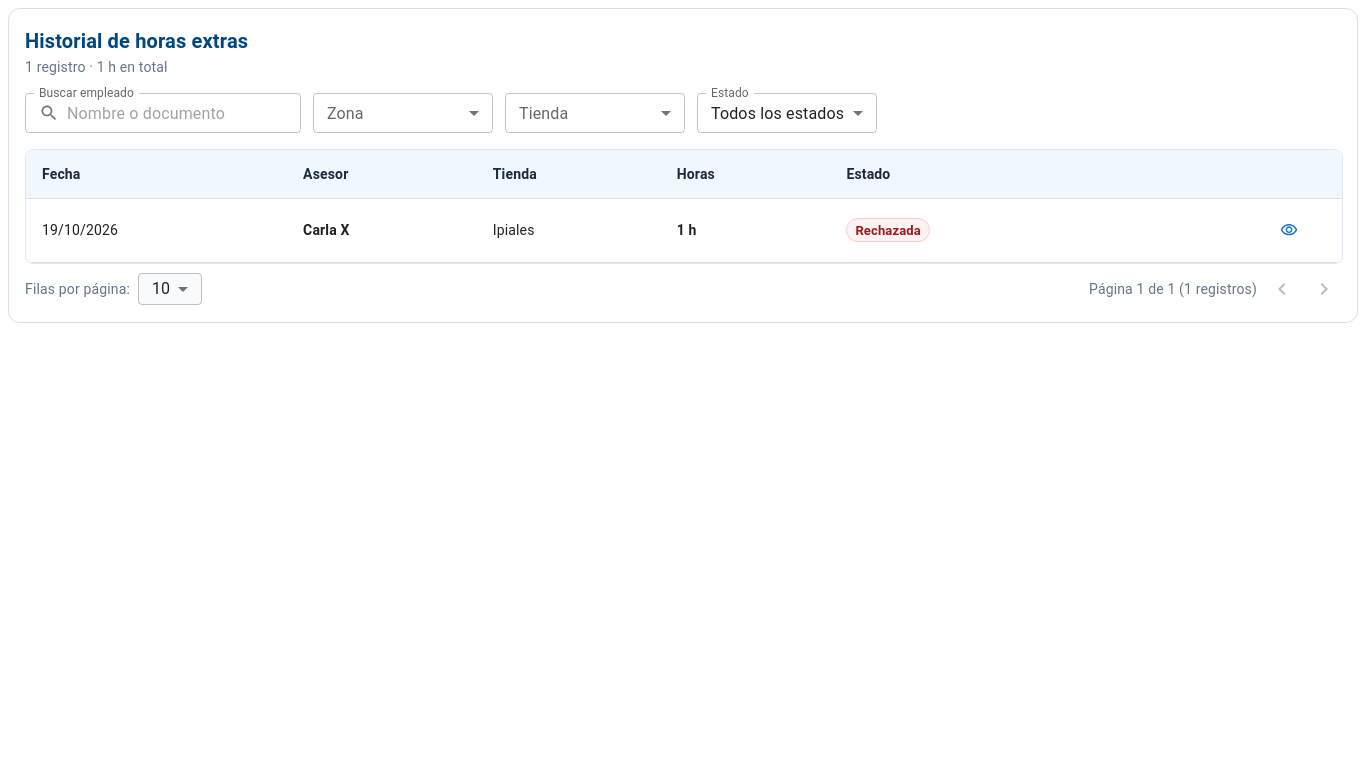
it: HistorialPage › la tabla no muestra observación ni creador; el detalle sí, con quién revisó y el motivo
Expected: the text "Carla X" is shown, 303,222 -> 350,238
Expected: the column heading "Observación" is not shown
Click the button named "Ver detalle de Carla X".
click(1294, 230)  # box 1262,215 -> 1326,246
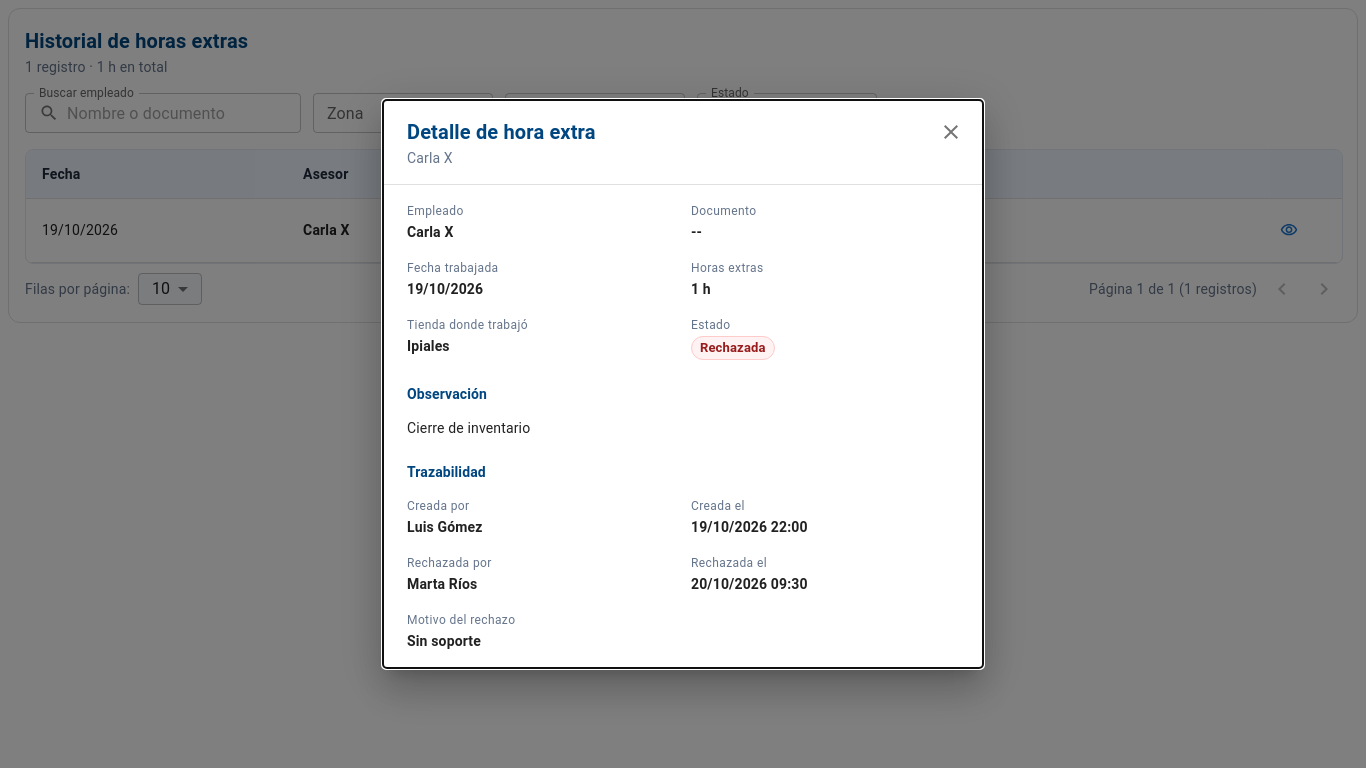
Expected: the text "Cierre de inventario" is shown, 407,420 -> 530,436
Expected: the text "Luis Gómez" is shown, 407,519 -> 482,535
Expected: the text "19/10/2026 22:00" is shown, 691,519 -> 808,535
Click the button named "Cerrar".
click(951, 132)  # box 931,112 -> 971,152
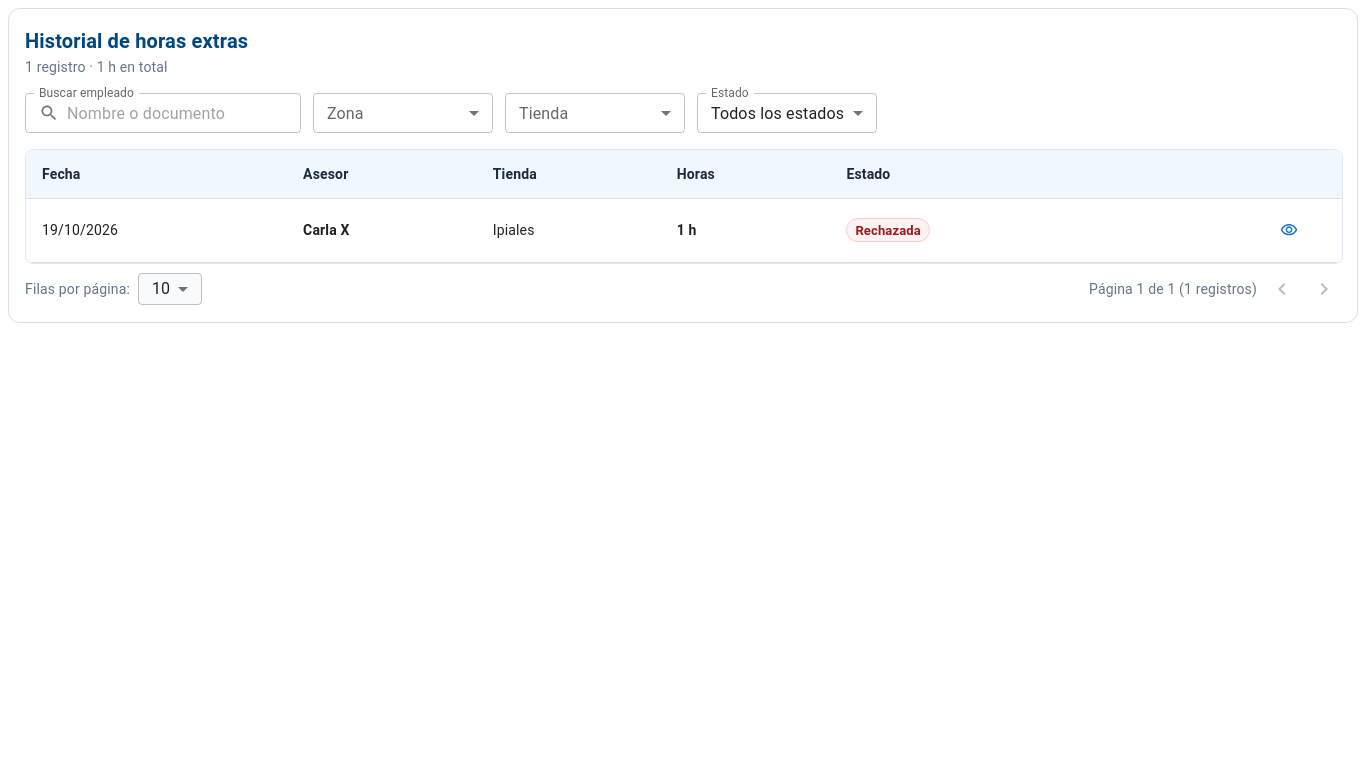
Expected: the dialog is gone
